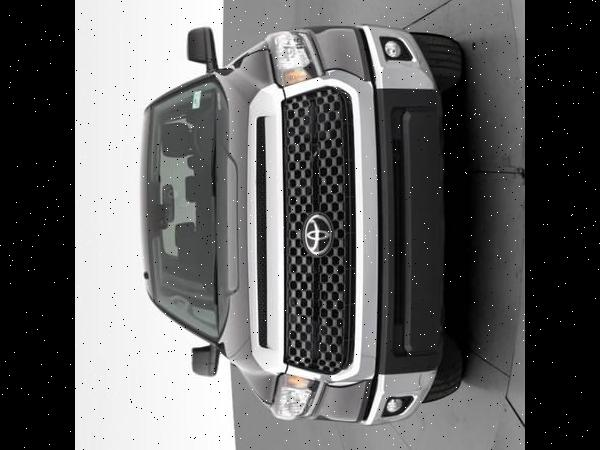Front_Bumper: (295, 24, 440, 422)
Front_Windshield: (145, 74, 219, 346)
Grille: (280, 75, 354, 378)
Hood: (213, 43, 283, 401)
Left_Headlight: (268, 28, 319, 84)
Left_Mirror: (186, 25, 218, 62)
Right_Headlight: (268, 370, 316, 420)
Right_Mirror: (194, 346, 220, 377)
